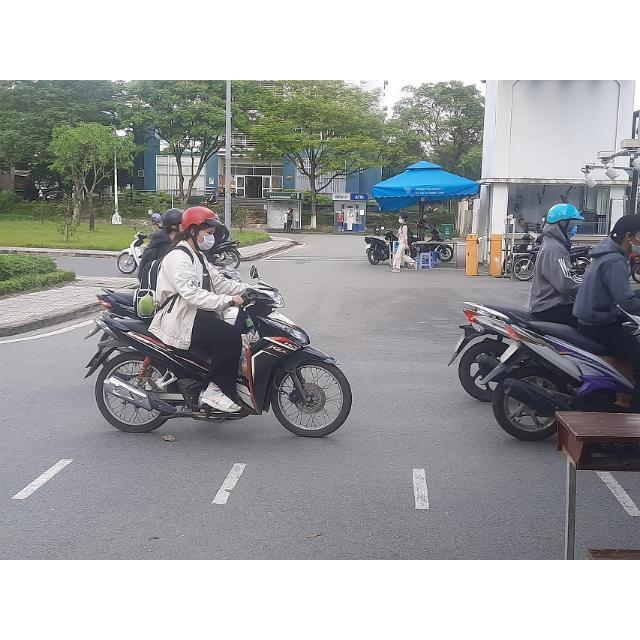Helmet: (178, 203, 224, 250), (546, 203, 586, 239)
